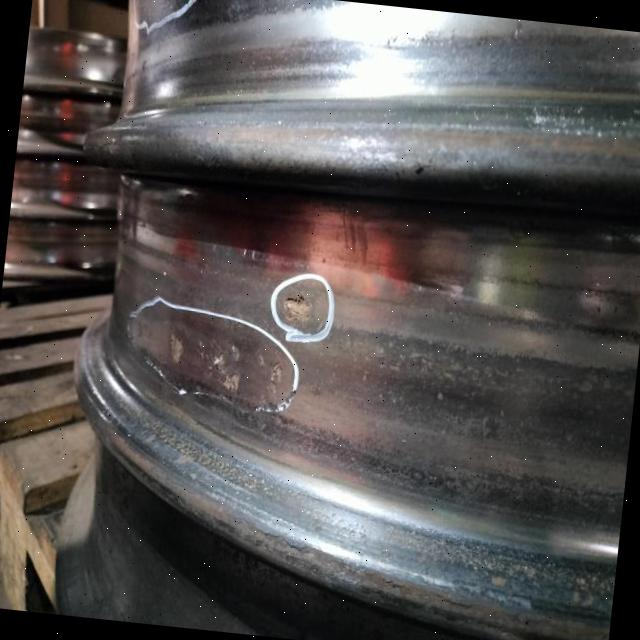Blue hole: (283, 293, 312, 323), (169, 334, 185, 363), (223, 373, 242, 394), (213, 351, 227, 371)
